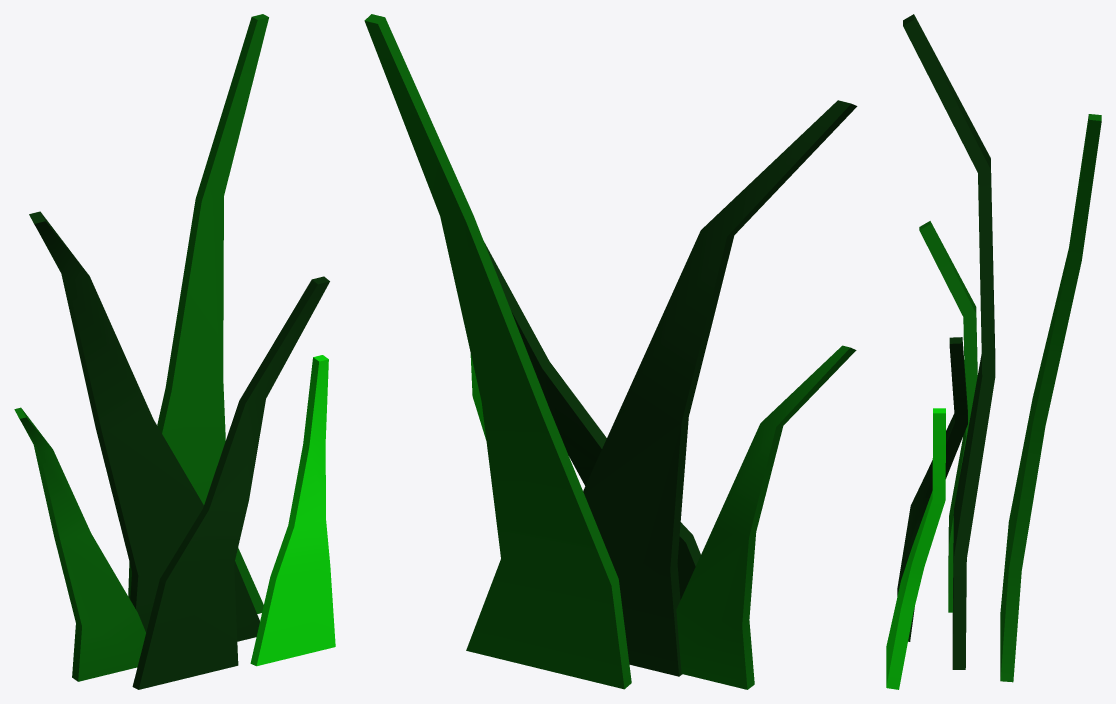
File: grama_conj_2.fbx
3 views of the same model, side by side, from view 1: azimuth 30°, elevation 25°; view 2: azimuth 150°, elevation 25°; view 3: azimuth 270°, elevation 25° (orthographic). The views are drawn at different scales.
Parts seen in each view (by area): view 1: polySurface13; view 2: polySurface13; view 3: polySurface13.
Boxes of the visible parts, left/top/right/bottom form: polySurface13: left=14, top=14, right=335, bottom=689; polySurface13: left=364, top=14, right=857, bottom=689; polySurface13: left=886, top=14, right=1101, bottom=689.
Bounding box in the file's own units: 0.3099 × 0.4973 × 0.166.
